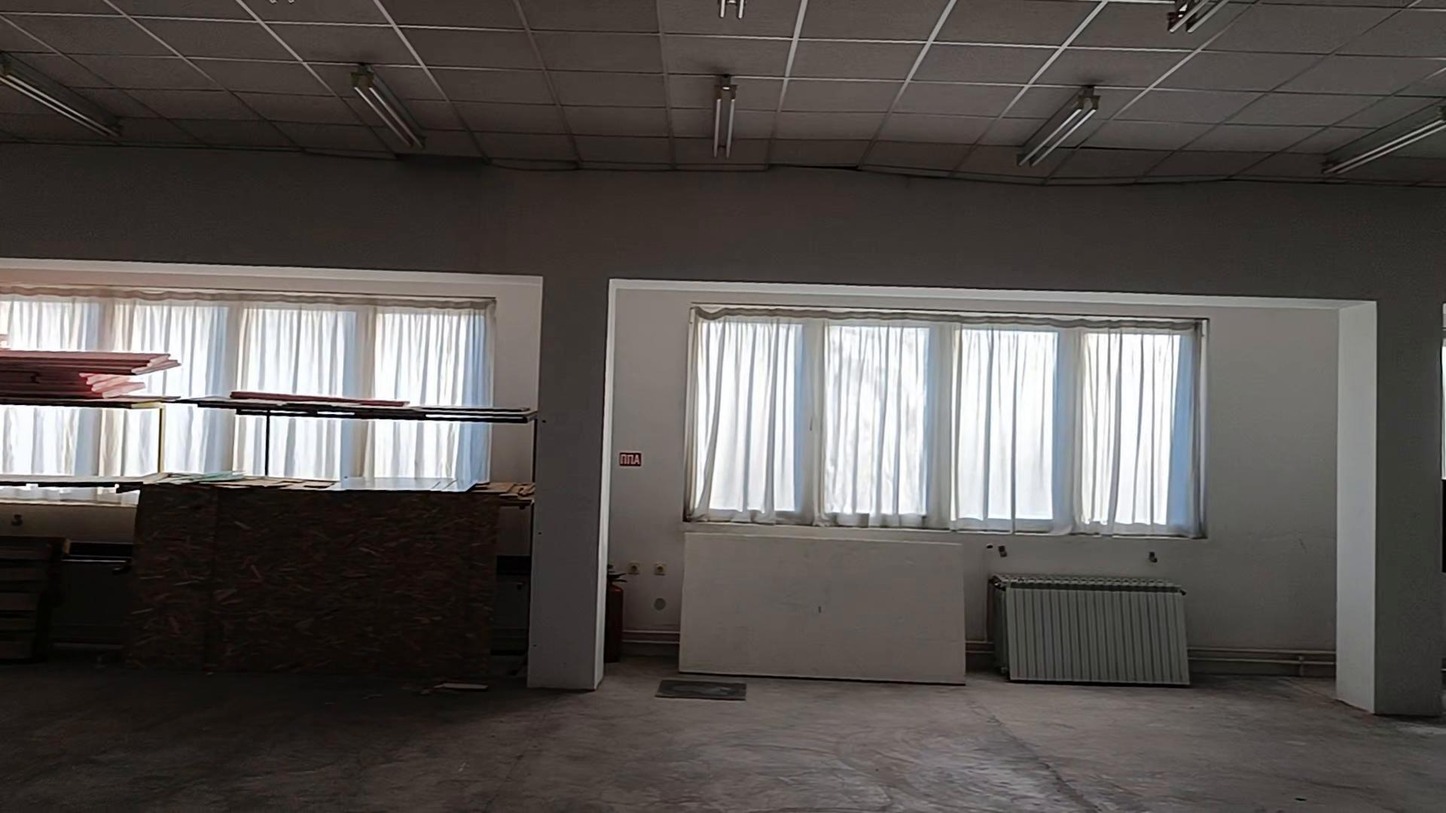ceiling: (0, 0, 1445, 183)
floor: (0, 662, 1445, 812)
wall: (8, 146, 1445, 715), (974, 319, 1332, 654)
